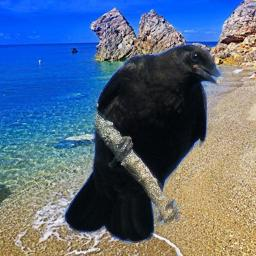Crow: (63, 43, 226, 245)
